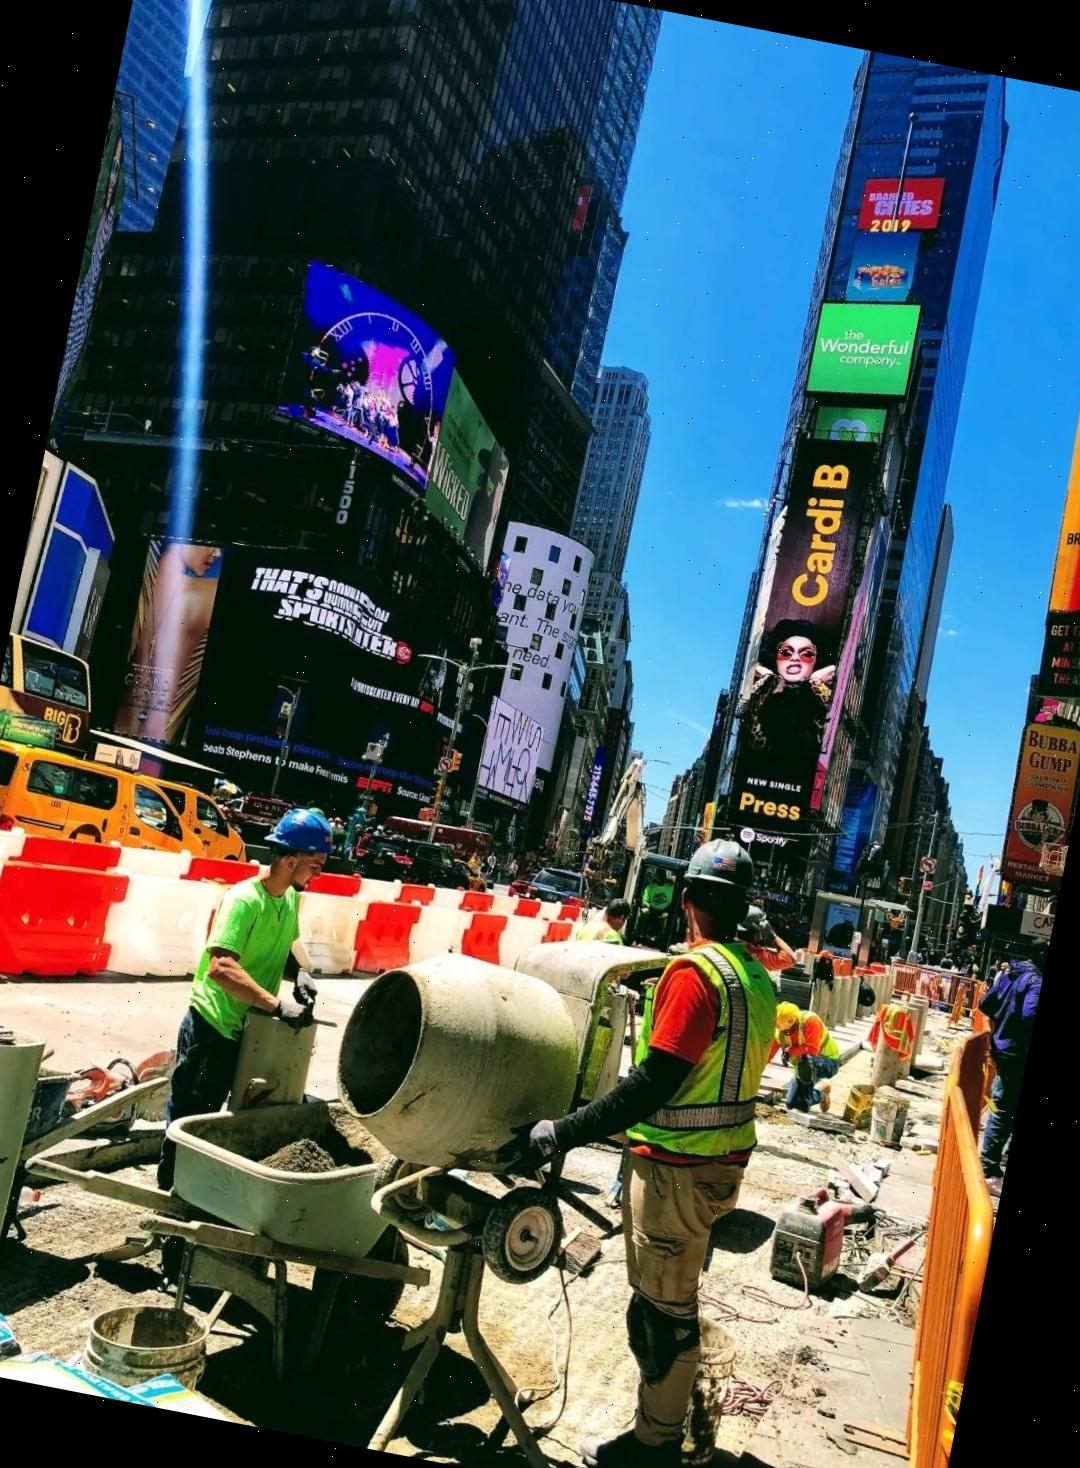helmet: (684, 829, 771, 902), (265, 801, 335, 862)
no_wear: (186, 875, 310, 1044)
wear: (624, 938, 789, 1199)
